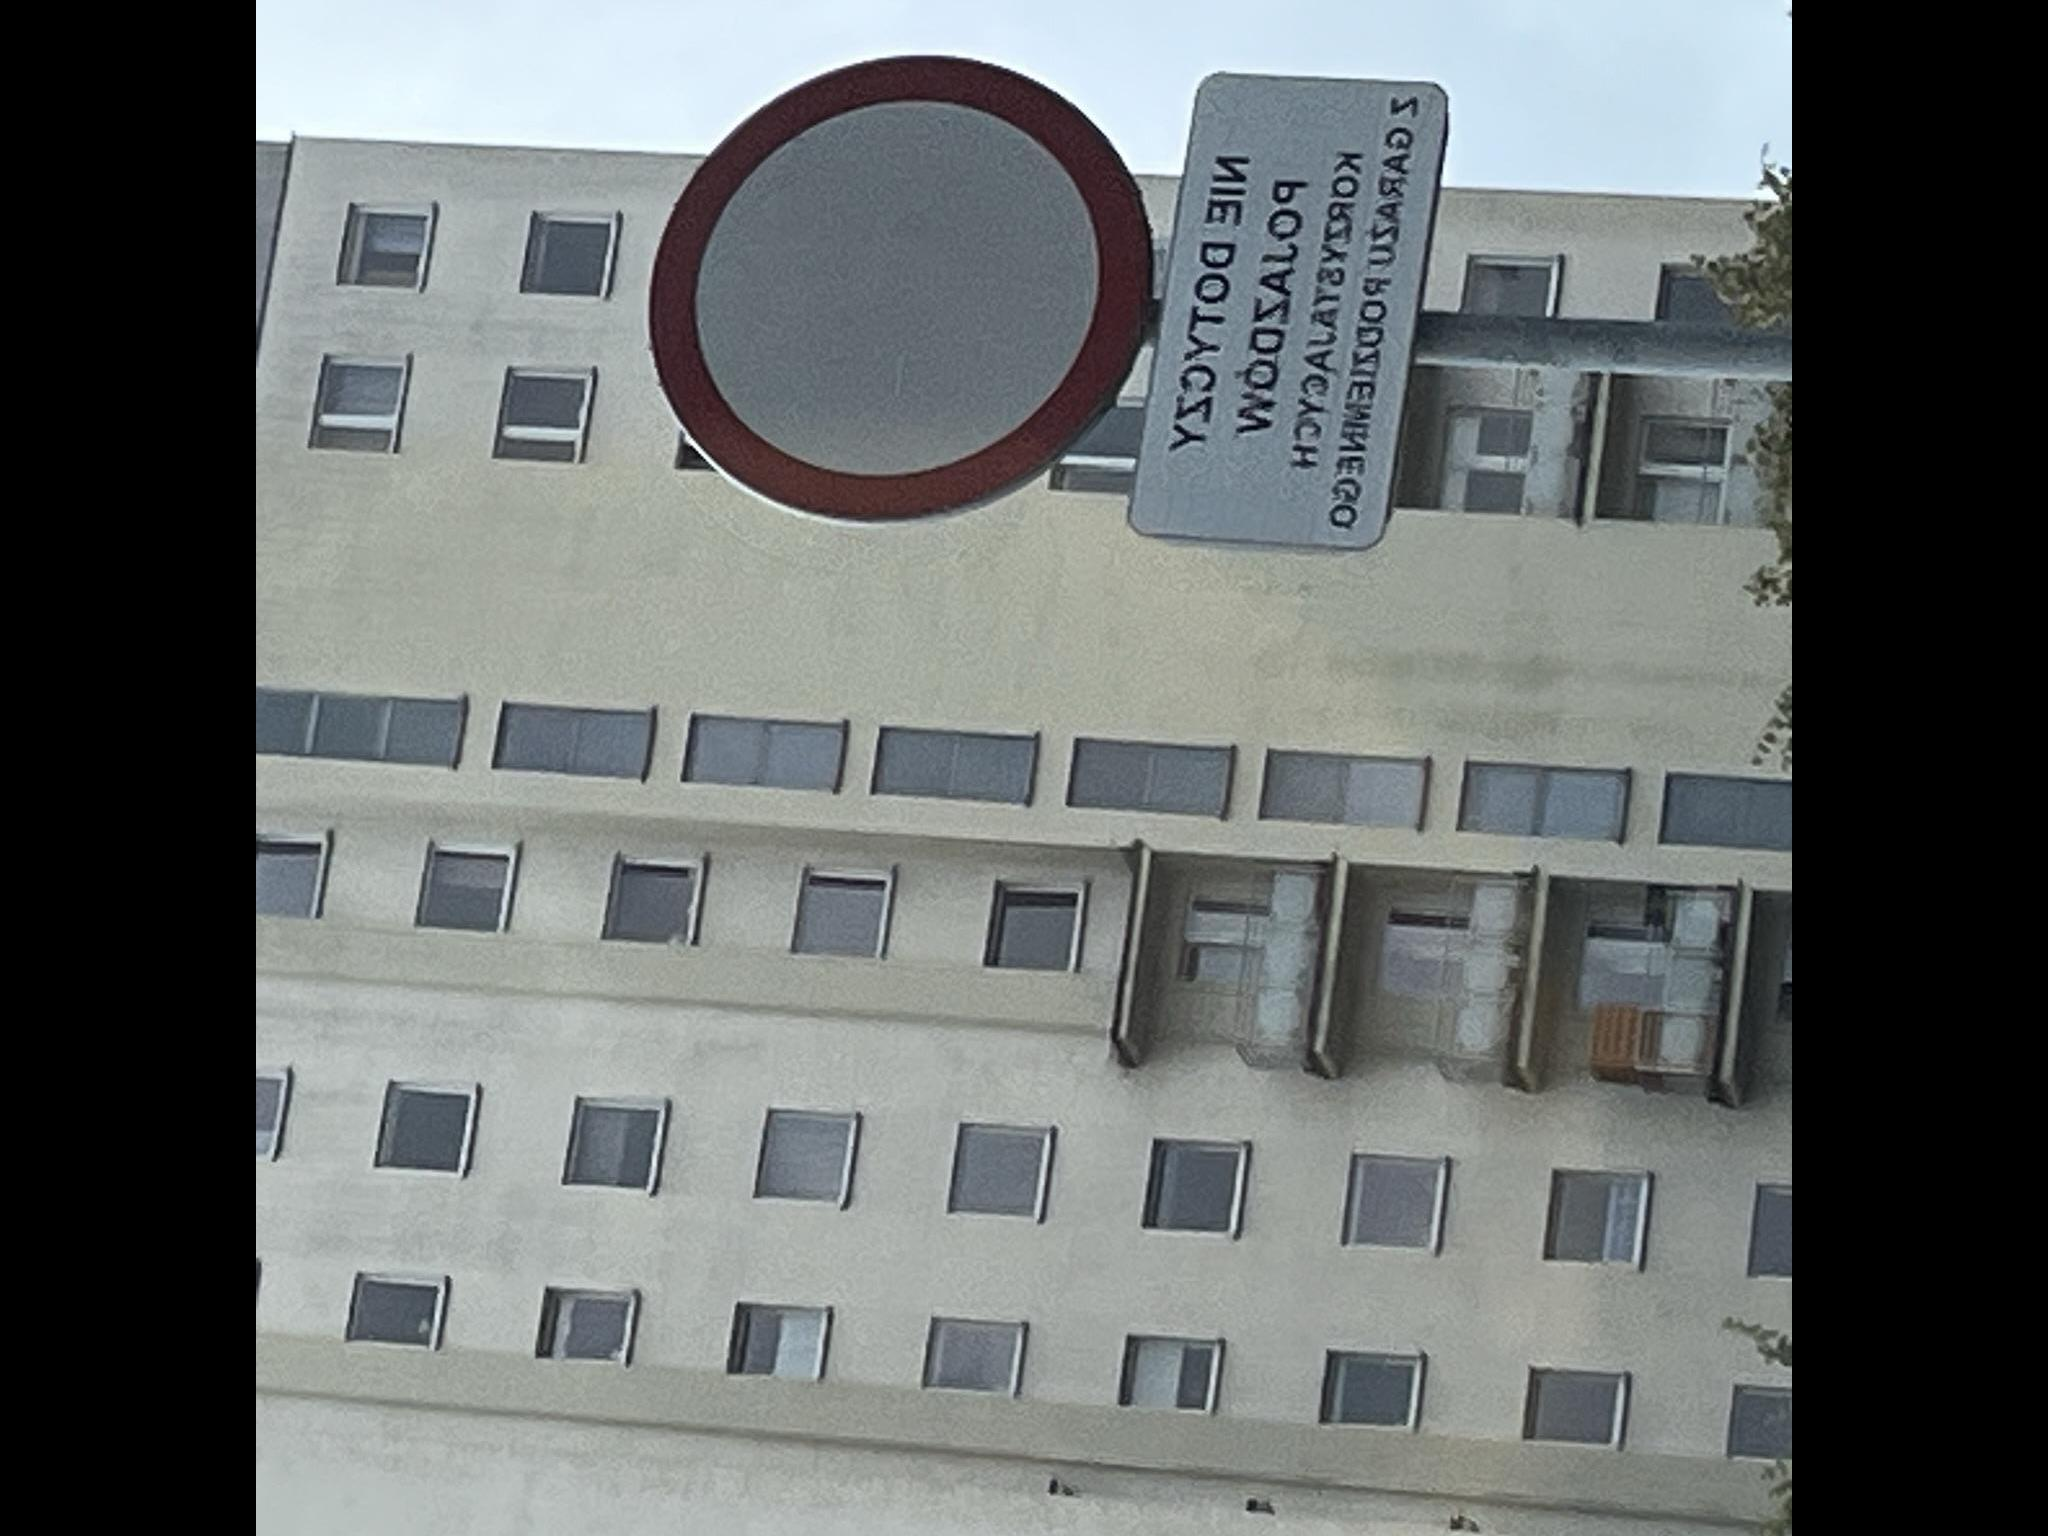other: (1126, 69, 1455, 557)
prohibitory: (642, 50, 1156, 526)
